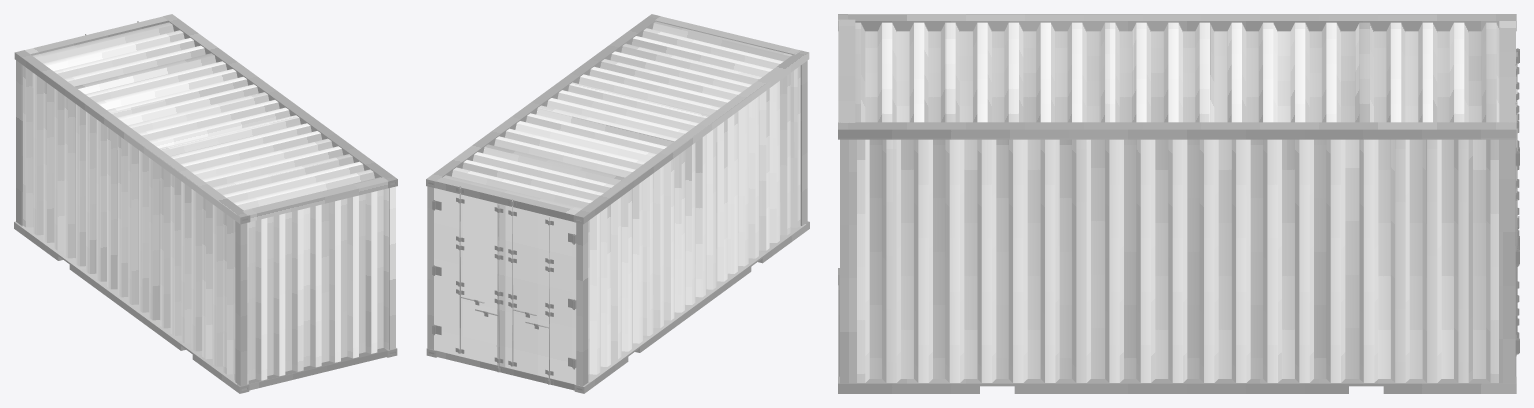
Rendered from ShippingContainer.glb.
3 renders of one model, left to right at view 1: azimuth 30°, elevation 25°; view 2: azimuth 150°, elevation 25°; view 3: azimuth 270°, elevation 25°, orthographic. The views are drawn at different scales.
Visible parts, largest first — view 1: ShippingContainer; view 2: ShippingContainer; view 3: ShippingContainer.
Part boxes in pixels (bbox=[...]): ShippingContainer: bbox=[14, 14, 397, 393]; ShippingContainer: bbox=[426, 14, 809, 393]; ShippingContainer: bbox=[838, 14, 1519, 393].
Size of the model in its own units: 2.43 by 2.61 by 6.04.
1 material, 1 textured.
